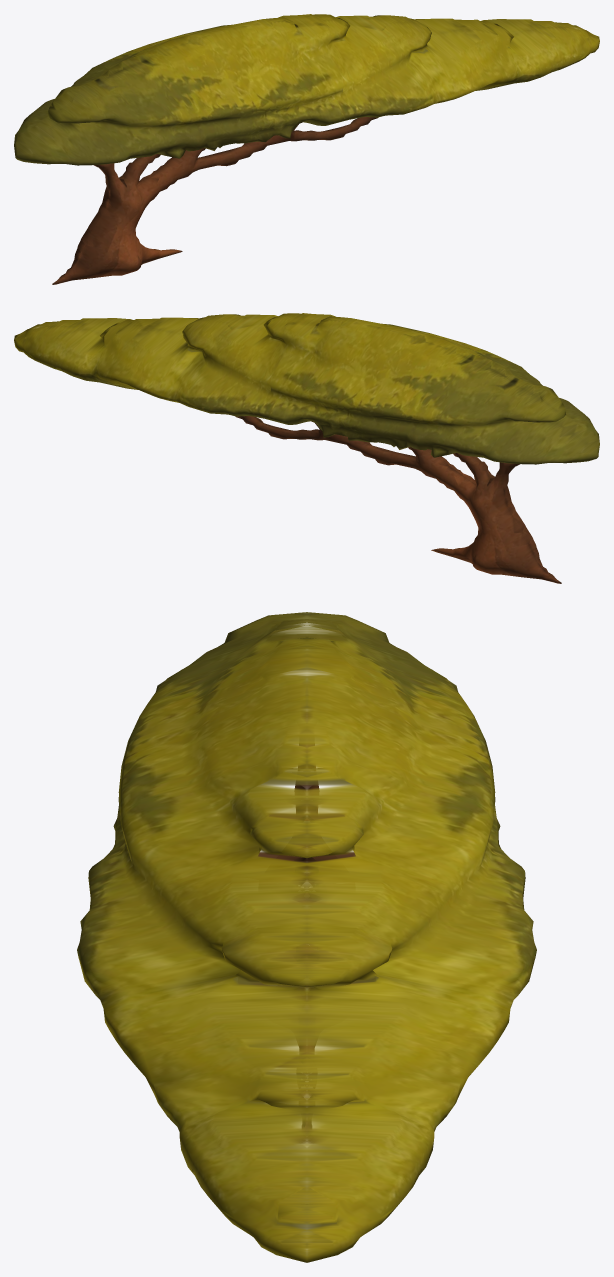
File: 22_trees_a_r00_c00.glb
3 renders of one model, top to bottom at view 1: azimuth 30°, elevation 25°; view 2: azimuth 150°, elevation 25°; view 3: azimuth 270°, elevation 25°, orthographic. The views are drawn at different scales.
Parts seen in each view (by area): view 1: 22_trees_a_r00_c00; view 2: 22_trees_a_r00_c00; view 3: 22_trees_a_r00_c00.
Part boxes in pixels (bbox=[...]): 22_trees_a_r00_c00: bbox=[14, 14, 599, 284]; 22_trees_a_r00_c00: bbox=[14, 313, 599, 583]; 22_trees_a_r00_c00: bbox=[77, 612, 536, 1262].
Bounding box in the file's own units: 10.06 × 3.49 × 3.43.
1 material, 1 textured.
